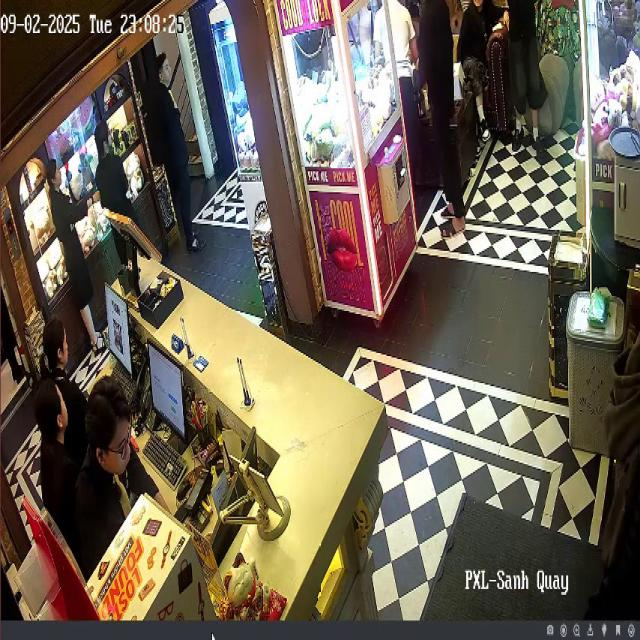khach: (406, 0, 473, 253), (366, 0, 425, 212), (499, 0, 554, 171), (456, 0, 513, 148)
nhan vien: (42, 147, 111, 368), (77, 372, 144, 596), (150, 40, 210, 258), (92, 114, 147, 289), (29, 373, 77, 546), (34, 293, 88, 427)
